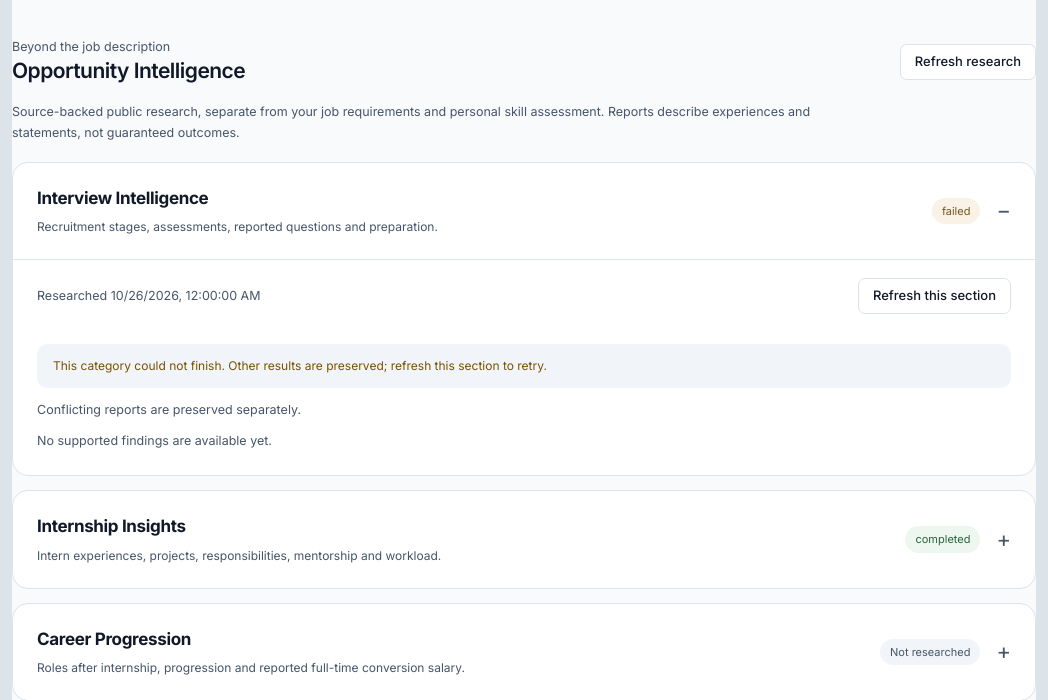
Test case: keeps successful categories visible when interviews fail, with claims, dates and citations
Check: the text "This category could not finish. Other results are preserved; refresh this section to retry." is shown, box [53,358,547,373]
Click the text "Internship Insights": [111, 526] box [37,516,186,536]
(page scrolled)
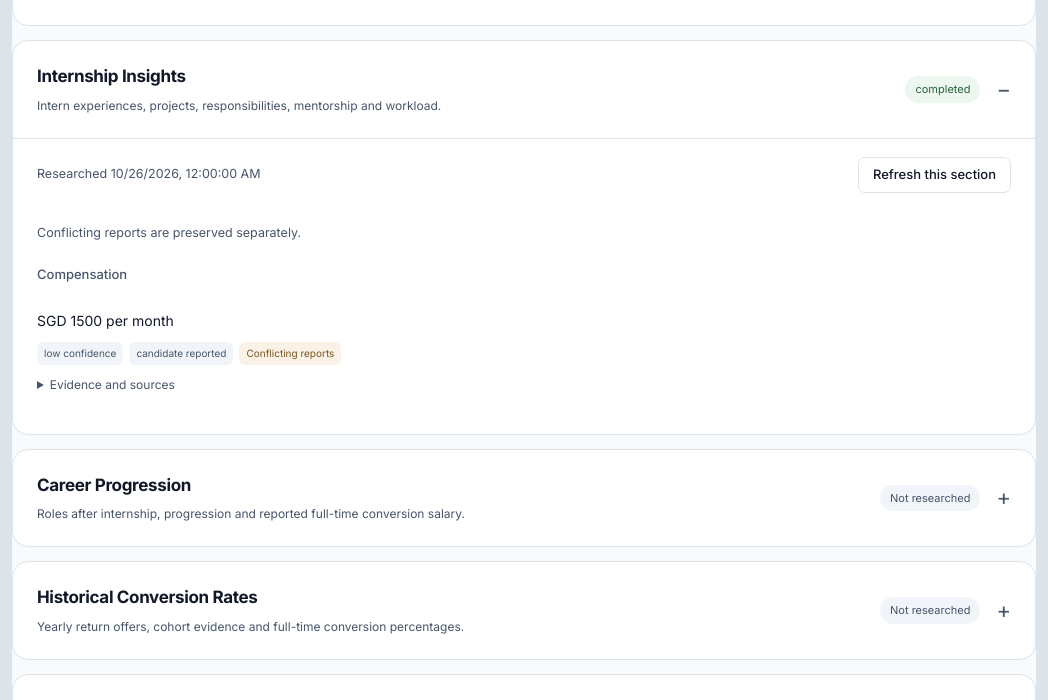
Check: the text "SGD 1500 per month" is shown, box [37,312,174,329]
Check: the text "low confidence" is shown, box [37,342,123,365]
Click the heading "Evidence and sources": [112, 384] box [50,377,175,392]
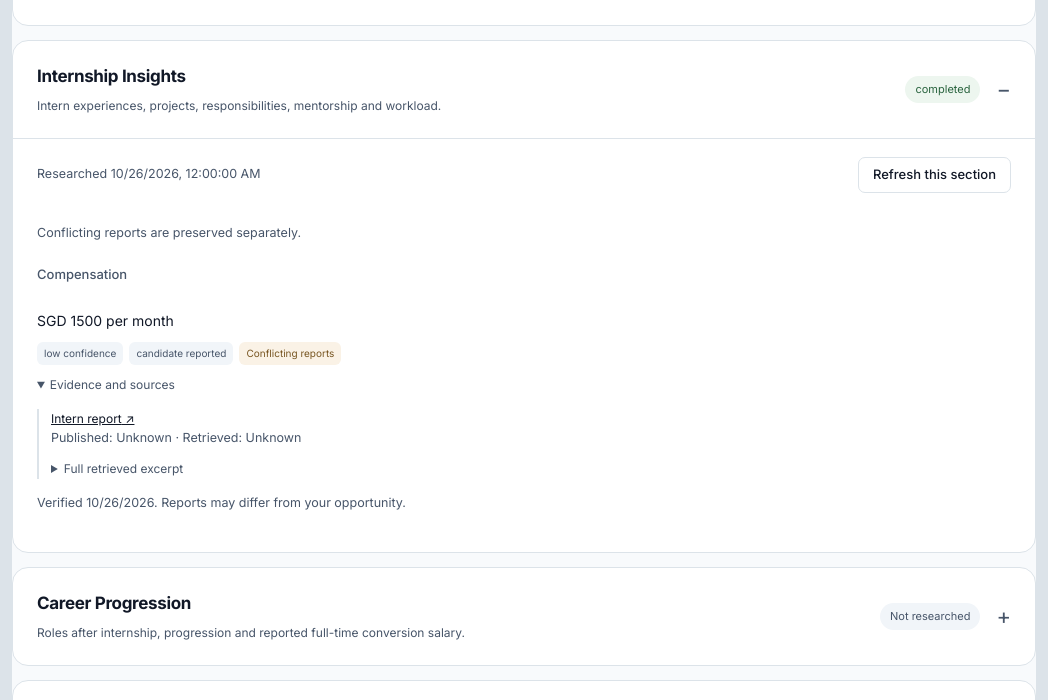
Check: the text "Conflicting reports" is shown, box [239,342,341,365]
Check: the text "Published: Unknown · Retrieved: Unknown" is shown, box [51,430,301,445]
